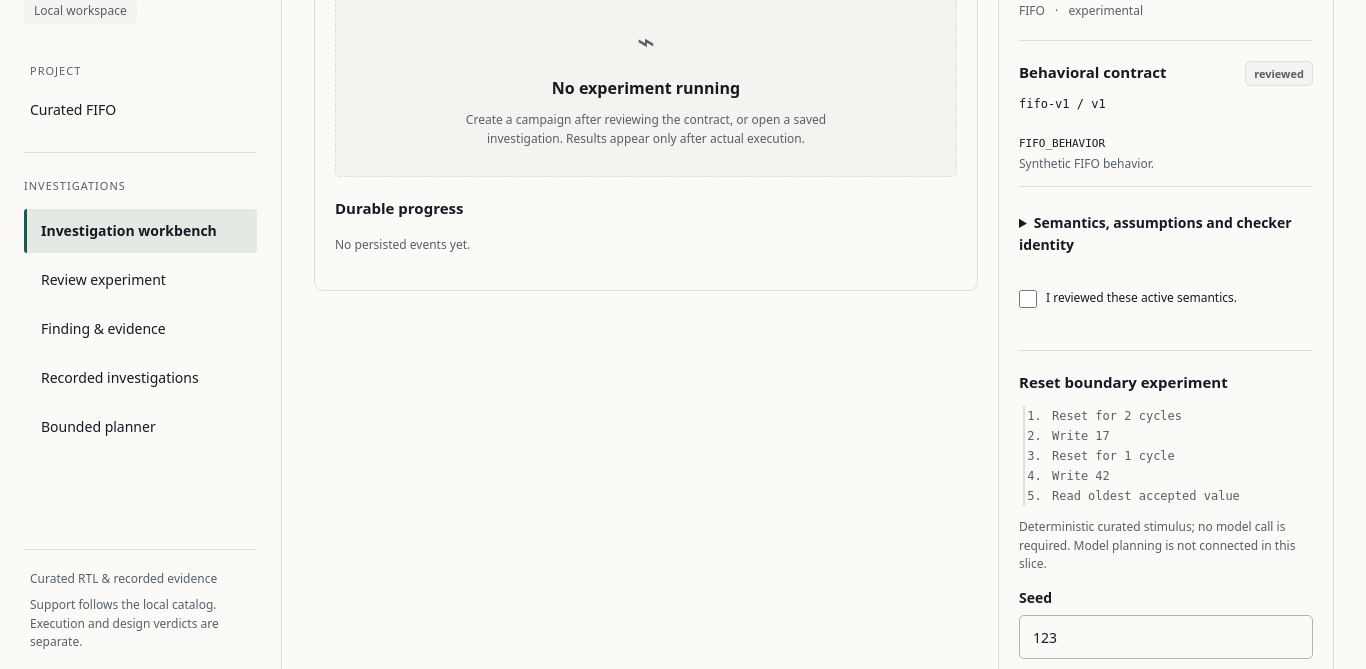
Scenario: retains reviewed FIFO behavior for RTL kind rtl_fixture
(page scrolled)
Expected: the text "Synthetic FIFO behavior." is shown, [1019, 155, 1154, 172]
Step 1. Click the checkbox → (1028, 299), box [1019, 290, 1037, 308]
(page scrolled)
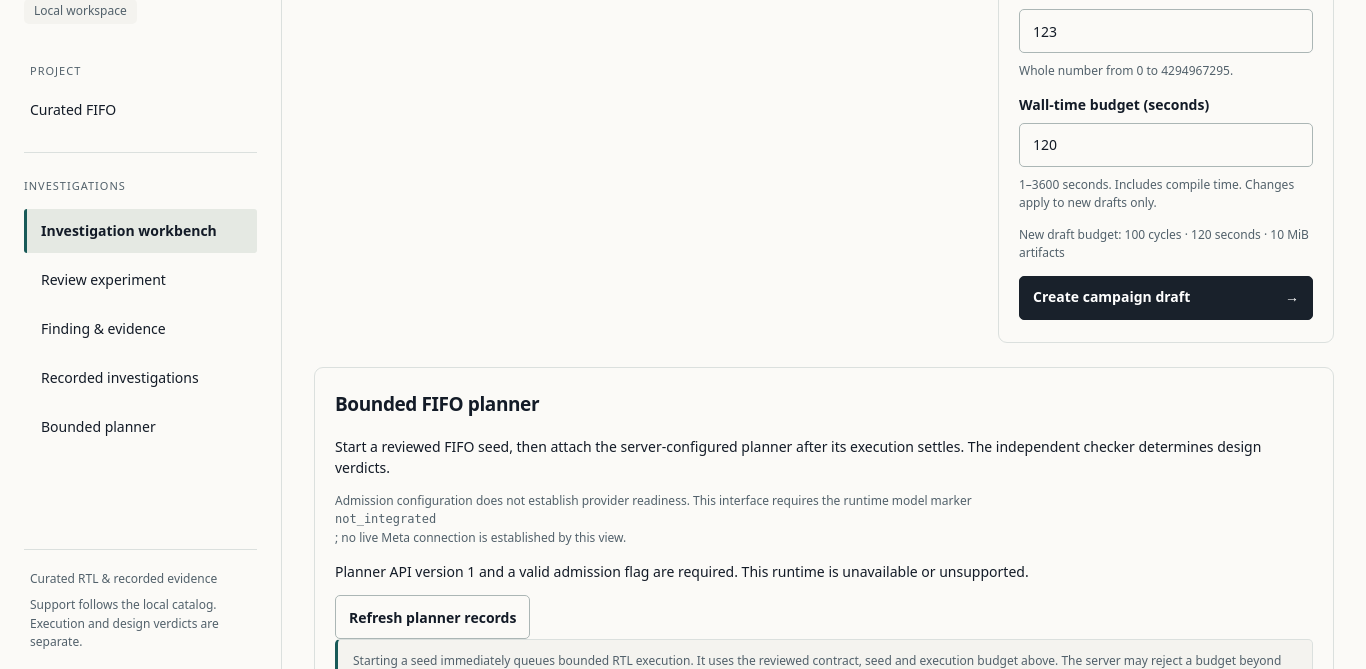
Expected: the button "Create campaign draft →" is enabled, [1019, 276, 1313, 320]
